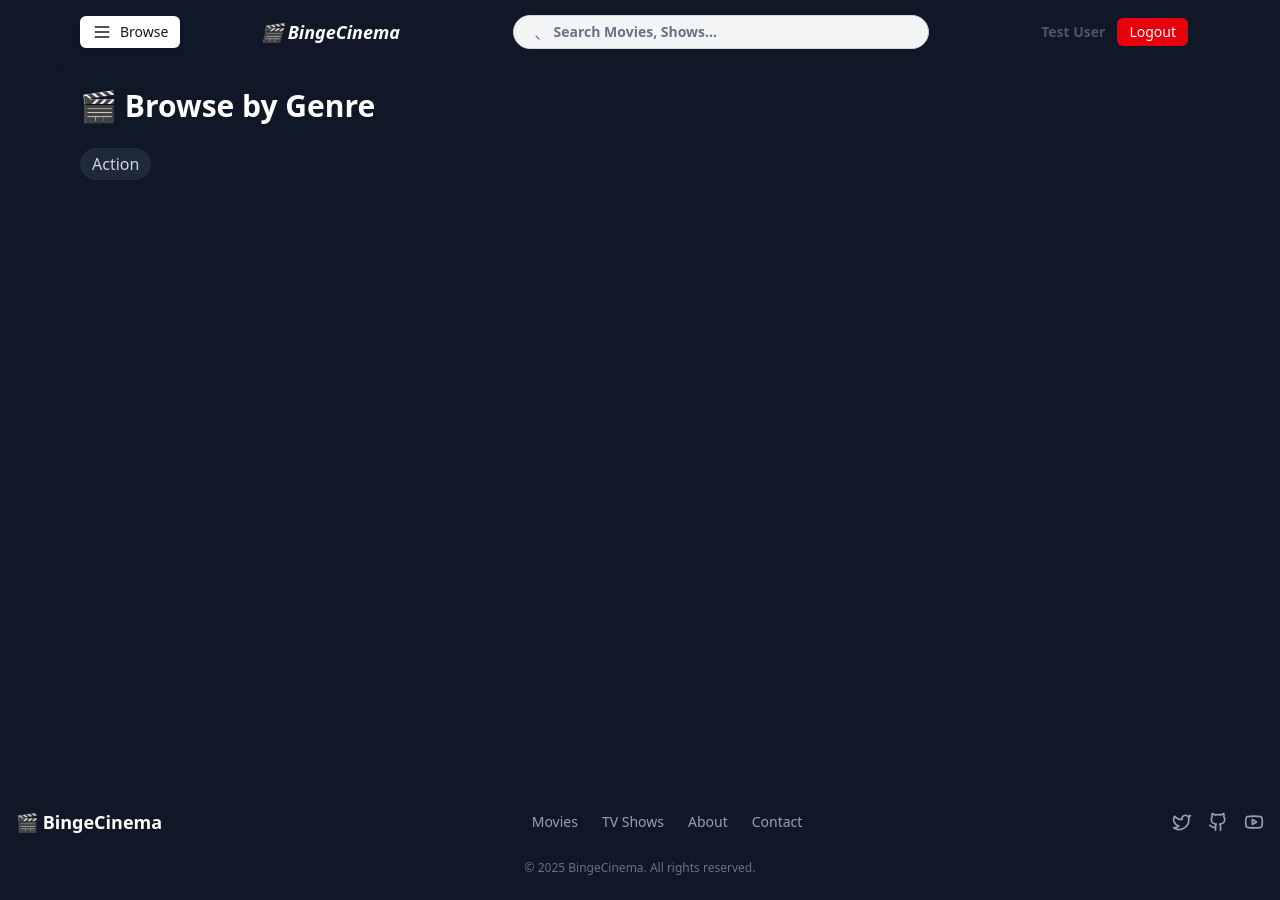
Test: Genres Component › fetches and displays movies + tv when genre is clicked
Click the text "Action": (116, 164) [80,148,151,180]
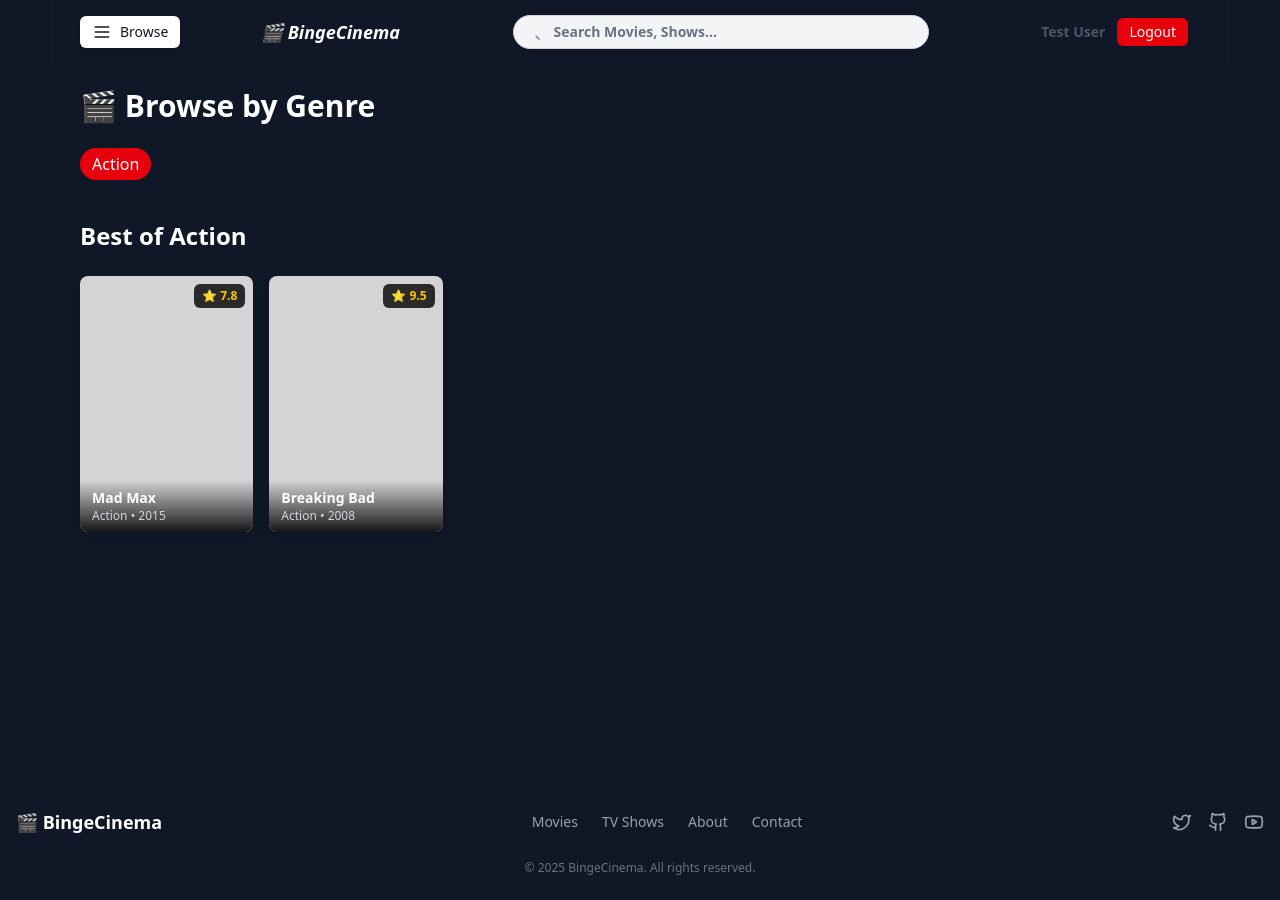
Result: the heading "Mad Max" is shown at [92,488,156,507]
Result: the heading "Breaking Bad" is shown at [281,488,375,507]
